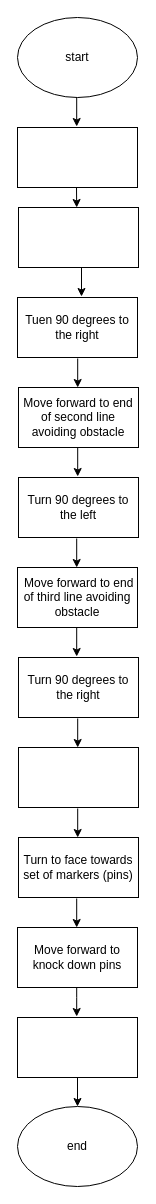
Some shapes in this 156 by 1204 pixel diagram are drawn without their labels. Each missing label, with the centre of its shape:
Move forward to end of first line avoiding obstacle: (78,237)
Move forward while increasing speed to jump obstacle: (78,777)
start on blue "x": (77,157)
stop in end triangle: (77,1047)
